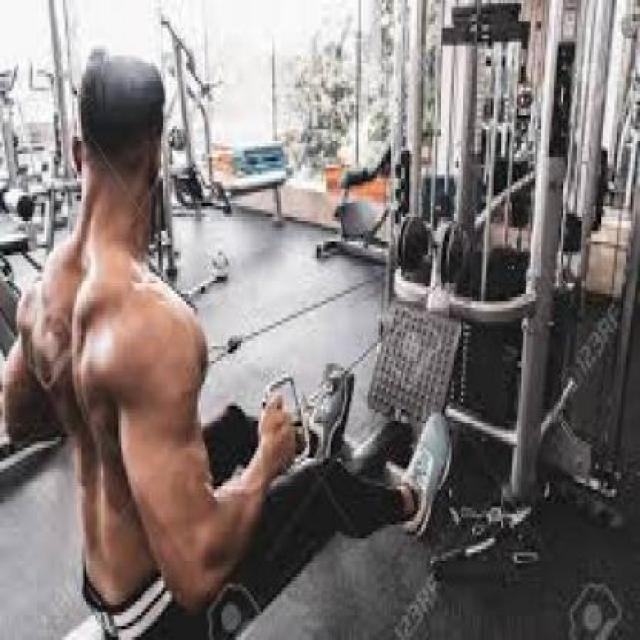Seated Cable Rows: (0, 17, 598, 640)
